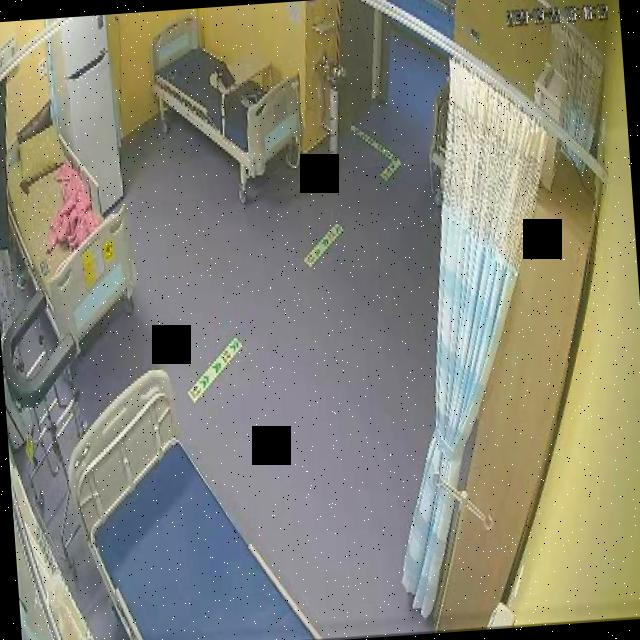bed: (60, 360, 320, 640), (0, 108, 144, 346), (146, 7, 306, 185)
walker: (0, 290, 93, 570)
